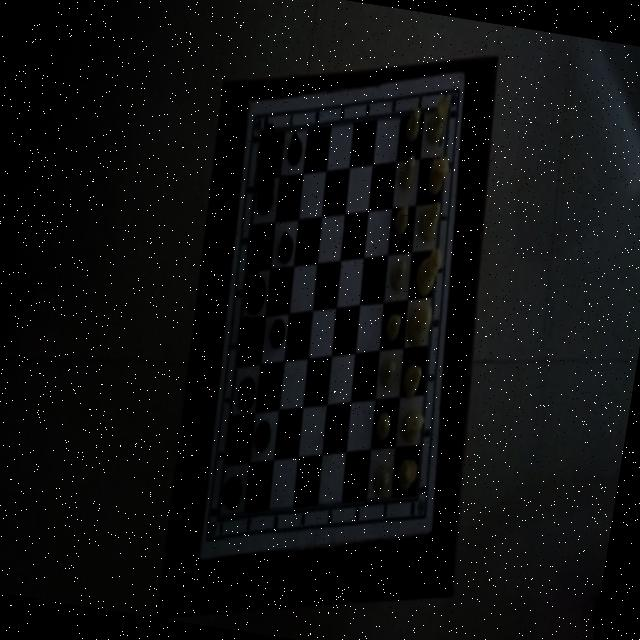corners: (196, 550, 206, 568), (244, 96, 254, 110), (426, 524, 436, 538), (459, 66, 468, 80)
